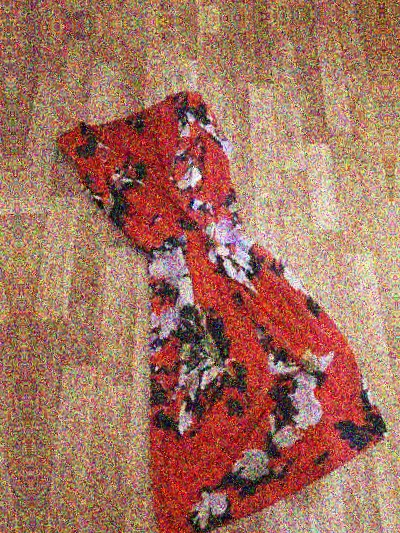Dress: (33, 63, 397, 533), (0, 82, 11, 533), (397, 45, 400, 533)
